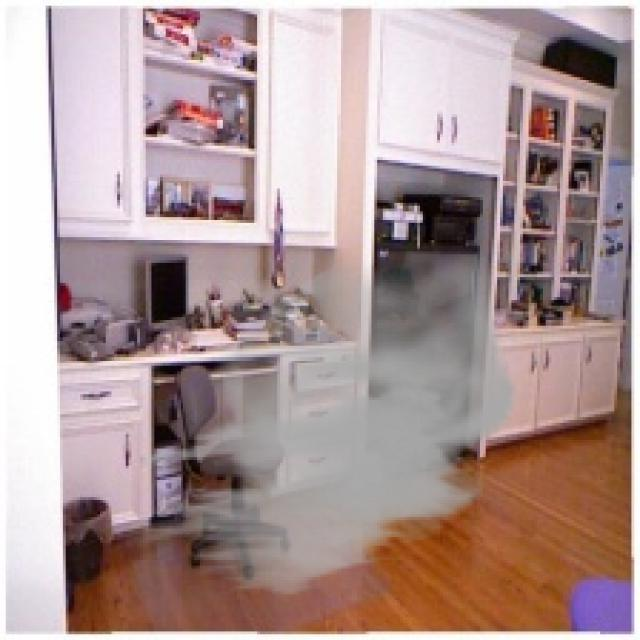Smoke: (140, 251, 517, 600)
